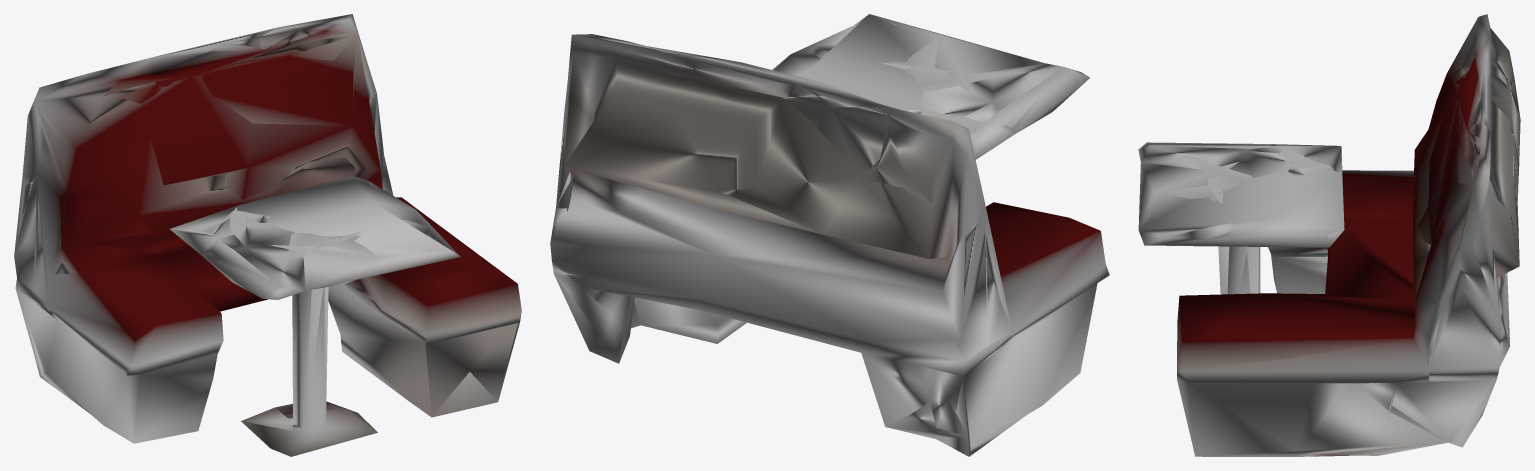
The model's file is gen3d-diner-booth-lod1.glb.
The picture shows the model from 3 angles, left to right: view 1: azimuth 30°, elevation 25°; view 2: azimuth 150°, elevation 25°; view 3: azimuth 270°, elevation 25°; orthographic projection. The views are drawn at different scales.
Parts seen in each view (by area): view 1: part_0; view 2: part_0; view 3: part_0.
Part boxes in pixels (bbox=[...]): part_0: bbox=[14, 14, 521, 456]; part_0: bbox=[550, 14, 1109, 456]; part_0: bbox=[1138, 14, 1520, 456].
Bounding box in the file's own units: 1.23 × 0.9862 × 1.15.
